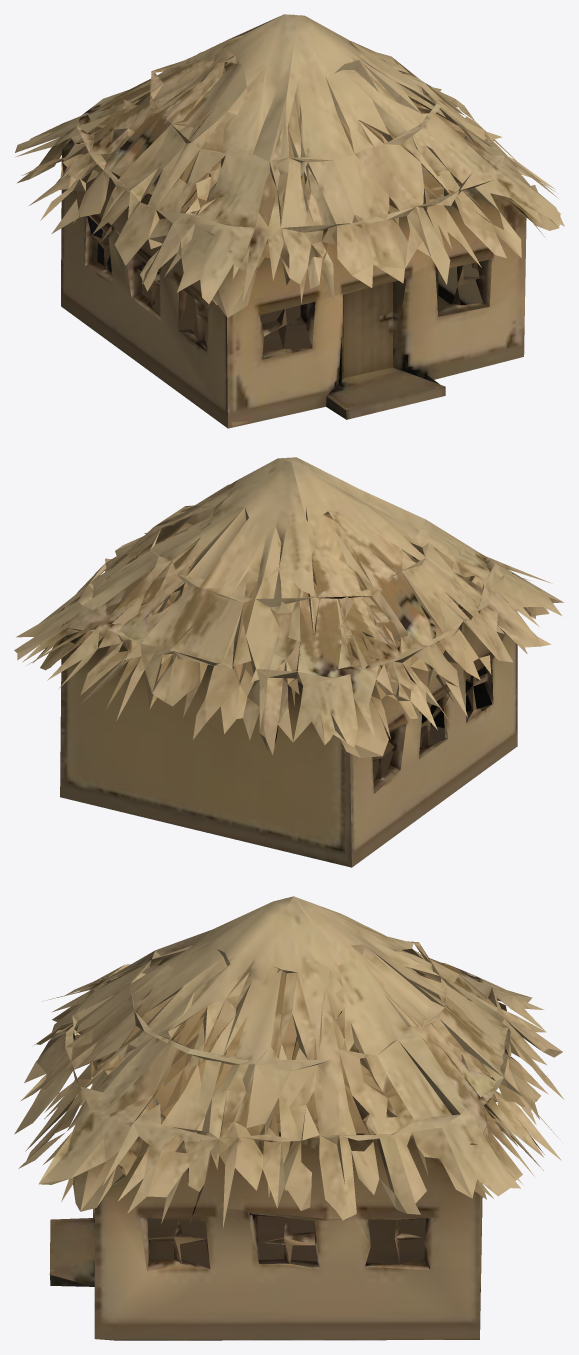
File: 草屋農舍.glb
3 renders of one model, top to bottom at view 1: azimuth 30°, elevation 25°; view 2: azimuth 150°, elevation 25°; view 3: azimuth 270°, elevation 25°, orthographic. The views are drawn at different scales.
Parts seen in each view (by area): view 1: geometry_0; view 2: geometry_0; view 3: geometry_0.
Boxes of the visible parts, x1=… form: geometry_0: x1=15, y1=14, x2=564, y2=428; geometry_0: x1=14, y1=457, x2=563, y2=867; geometry_0: x1=14, y1=896, x2=564, y2=1340.
Size of the model in its own units: 0.9852 by 0.7104 by 0.9833.
1 material, 1 textured.
